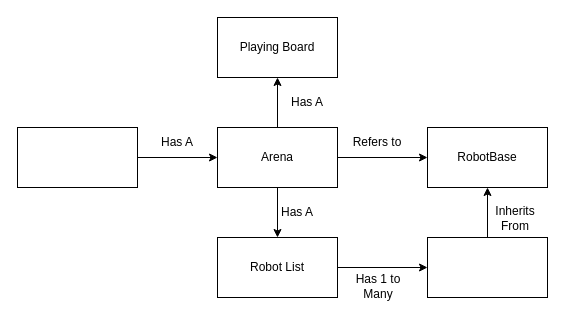
This 565x319 diagram has some shape labels left out. Each missing label, with the centre of its shape:
Custom Robot: the point at 487,267
RobotWarz: the point at 77,157
